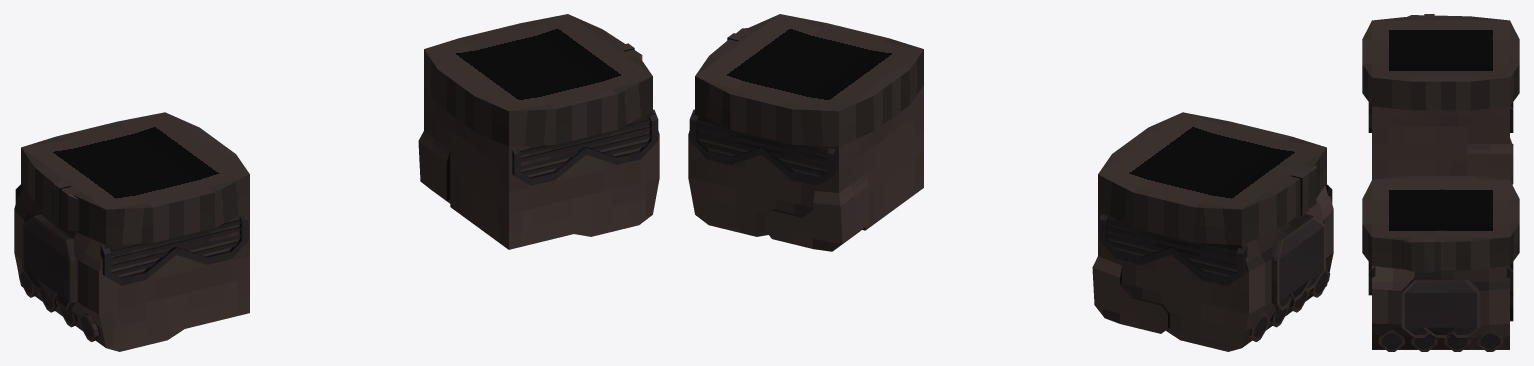
3 renders of one model, left to right at view 1: azimuth 30°, elevation 25°; view 2: azimuth 150°, elevation 25°; view 3: azimuth 270°, elevation 25°, orthographic. The views are drawn at different scales.
Visible parts, largest first — view 1: right_arm, left_arm; view 2: left_arm, right_arm; view 3: right_arm, left_arm.
Part boxes in pixels (left/top/right/bottom): right_arm: left=418, top=14, right=659, bottom=249; left_arm: left=14, top=112, right=249, bottom=351; left_arm: left=1092, top=112, right=1333, bottom=351; right_arm: left=688, top=14, right=923, bottom=251; right_arm: left=1362, top=176, right=1519, bottom=351; left_arm: left=1362, top=14, right=1519, bottom=184.
Bounding box in the file's own units: 1.08 × 0.2607 × 0.3124.
1 material, 1 textured.
